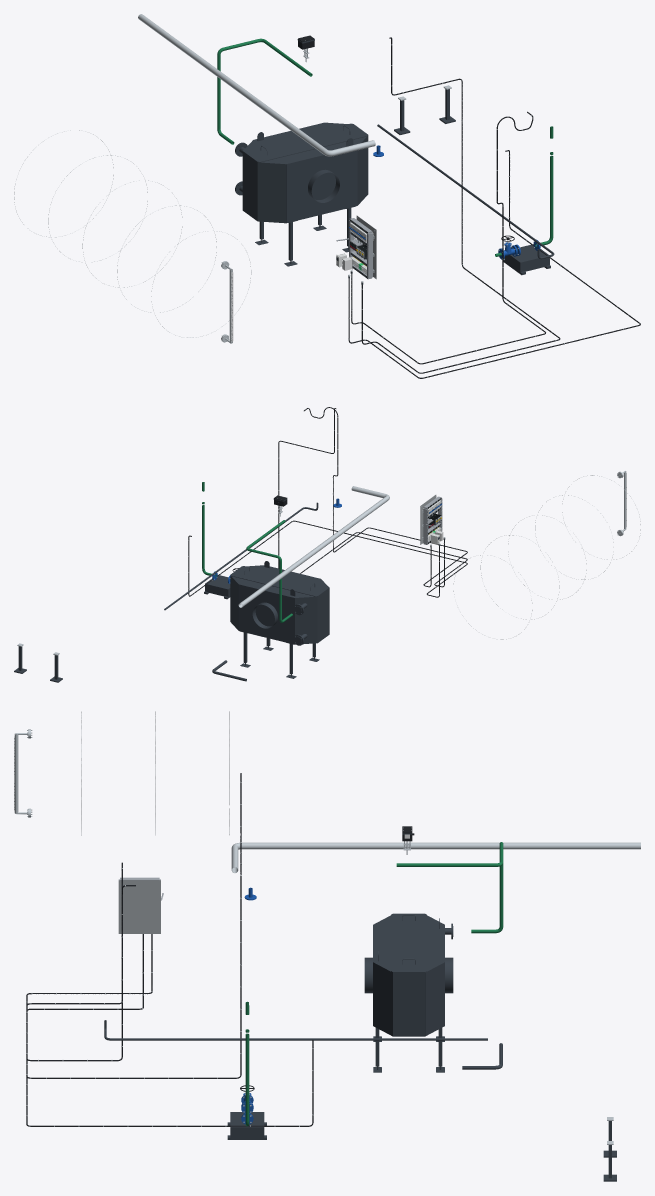
The picture shows the model from 3 angles, top to bottom: view 1: azimuth 30°, elevation 25°; view 2: azimuth 150°, elevation 25°; view 3: azimuth 270°, elevation 25°; orthographic projection. The views are drawn at different scales.
Visible parts, largest first — view 1: EQS2-2000 CAD 0, EQS2-2000 CAD 3, safety_vent_1 / steel, EQS2-2000 CAD 1, cabinet_interior / cabinet_interior_0.npz, gpz_drive_cable / black, wiring_pressure_switch_3 / black, wiring_pump_2 / black, deaerator_details / steel, pump_branch_1 / dark, from_economizer / green, tds_common / dark; view 2: EQS2-2000 CAD 0, EQS2-2000 CAD 3, safety_vent_1 / steel, EQS2-2000 CAD 2, cabinet_interior / cabinet_interior_0.npz, gpz_drive_cable / black, wiring_pump_2 / black, wiring_pressure_switch_3 / black, deaerator_details / steel, from_economizer / green, pump_branch_1 / dark; view 3: EQS2-2000 CAD 3, safety_vent_1 / steel, cabinet_interior / cabinet_interior_0.npz, gpz_drive_cable / black, EQS2-2000 CAD 0, wiring_pump_2 / black, tds_common / dark, wiring_pressure_switch_3 / black, deaerator_details / steel, from_economizer / green, pump_branch_1 / dark.
Part boxes in pixels (<box>): EQS2-2000 CAD 0: <box>255,150,357,266</box>; EQS2-2000 CAD 3: <box>242,122,368,221</box>; safety_vent_1 / steel: <box>138,14,375,156</box>; EQS2-2000 CAD 1: <box>257,162,286,223</box>; cabinet_interior / cabinet_interior_0.npz: <box>336,215,376,279</box>; gpz_drive_cable / black: <box>361,37,560,373</box>; wiring_pressure_switch_3 / black: <box>351,111,545,364</box>; wiring_pump_2 / black: <box>348,150,640,378</box>; deaerator_details / steel: <box>14,130,251,343</box>; pump_branch_1 / dark: <box>503,244,550,275</box>; from_economizer / green: <box>217,38,301,144</box>; tds_common / dark: <box>377,124,554,259</box>; EQS2-2000 CAD 0: <box>238,584,319,678</box>; EQS2-2000 CAD 3: <box>230,561,329,642</box>; safety_vent_1 / steel: <box>238,486,389,607</box>; EQS2-2000 CAD 2: <box>293,596,317,645</box>; cabinet_interior / cabinet_interior_0.npz: <box>420,495,442,544</box>; gpz_drive_cable / black: <box>278,408,467,587</box>; wiring_pump_2 / black: <box>188,520,467,597</box>; wiring_pressure_switch_3 / black: <box>304,407,467,587</box>; deaerator_details / steel: <box>453,471,640,639</box>; from_economizer / green: <box>246,525,292,622</box>; pump_branch_1 / dark: <box>204,575,230,599</box>; EQS2-2000 CAD 3: <box>373,913,444,1036</box>; safety_vent_1 / steel: <box>231,842,640,872</box>; cabinet_interior / cabinet_interior_0.npz: <box>118,877,163,933</box>; gpz_drive_cable / black: <box>26,773,241,1078</box>; EQS2-2000 CAD 0: <box>364,925,453,1072</box>; wiring_pump_2 / black: <box>26,934,313,1126</box>; tds_common / dark: <box>104,1020,487,1040</box>; wiring_pressure_switch_3 / black: <box>26,862,152,1061</box>; deaerator_details / steel: <box>14,711,229,835</box>; from_economizer / green: <box>417,842,503,933</box>; pump_branch_1 / dark: <box>227,1112,266,1139</box>.
Size of the model in its own units: 7.8 by 3.6 by 7.17.
